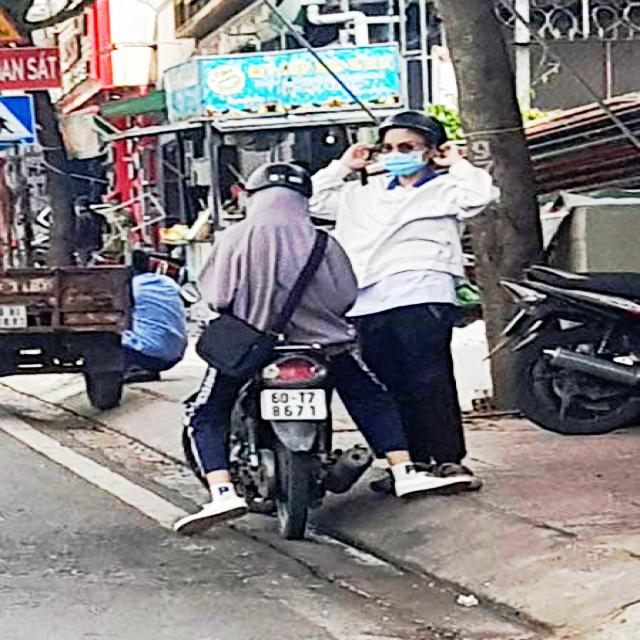license_plate: (261, 389, 327, 420)
